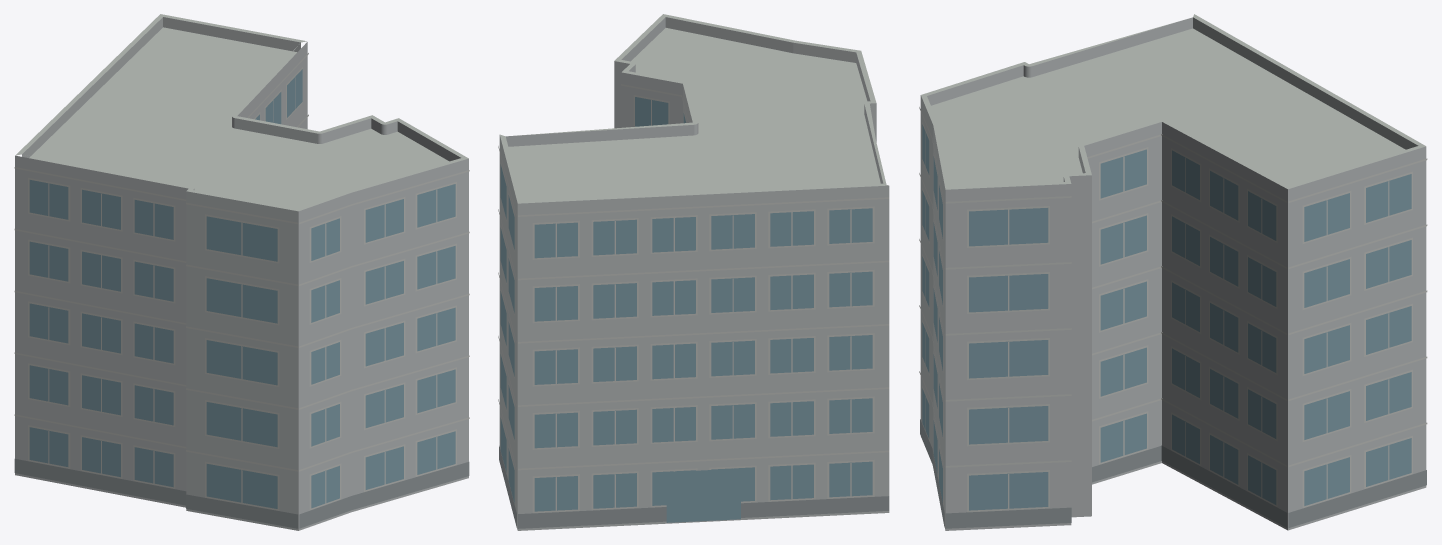
Rendered from public-561cb9ab-9913-48f5-8cfb-2985d315f674.glb.
The picture shows the model from 3 angles, left to right: view 1: azimuth 30°, elevation 25°; view 2: azimuth 150°, elevation 25°; view 3: azimuth 270°, elevation 25°; orthographic projection. The views are drawn at different scales.
Visible parts, largest first — view 1: public-561cb9ab-9913-48f5-8cfb-2985d315f674; view 2: public-561cb9ab-9913-48f5-8cfb-2985d315f674; view 3: public-561cb9ab-9913-48f5-8cfb-2985d315f674.
Part boxes in pixels (x1=…): public-561cb9ab-9913-48f5-8cfb-2985d315f674: x1=14, y1=14, x2=469, y2=530; public-561cb9ab-9913-48f5-8cfb-2985d315f674: x1=498, y1=14, x2=889, y2=530; public-561cb9ab-9913-48f5-8cfb-2985d315f674: x1=919, y1=14, x2=1427, y2=530.
Bounding box in the file's own units: 22.22 × 20 × 26.99.
